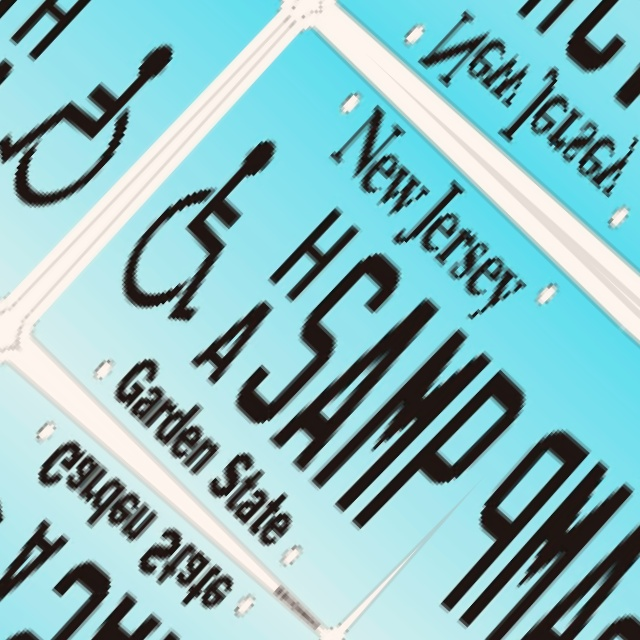ISA: (93, 111, 320, 344), (0, 2, 202, 234), (0, 428, 24, 640), (638, 619, 640, 640)
